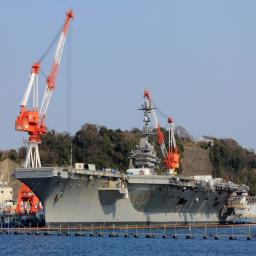Portanaves: (11, 136, 248, 235)
